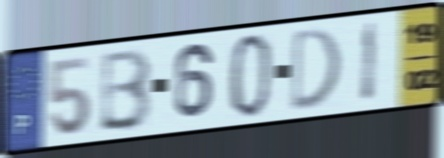0: (227, 30, 275, 121)
5: (46, 53, 93, 138)
6: (173, 40, 216, 124)
B: (97, 45, 154, 134)
D: (288, 24, 344, 116)
I: (359, 19, 380, 106)
